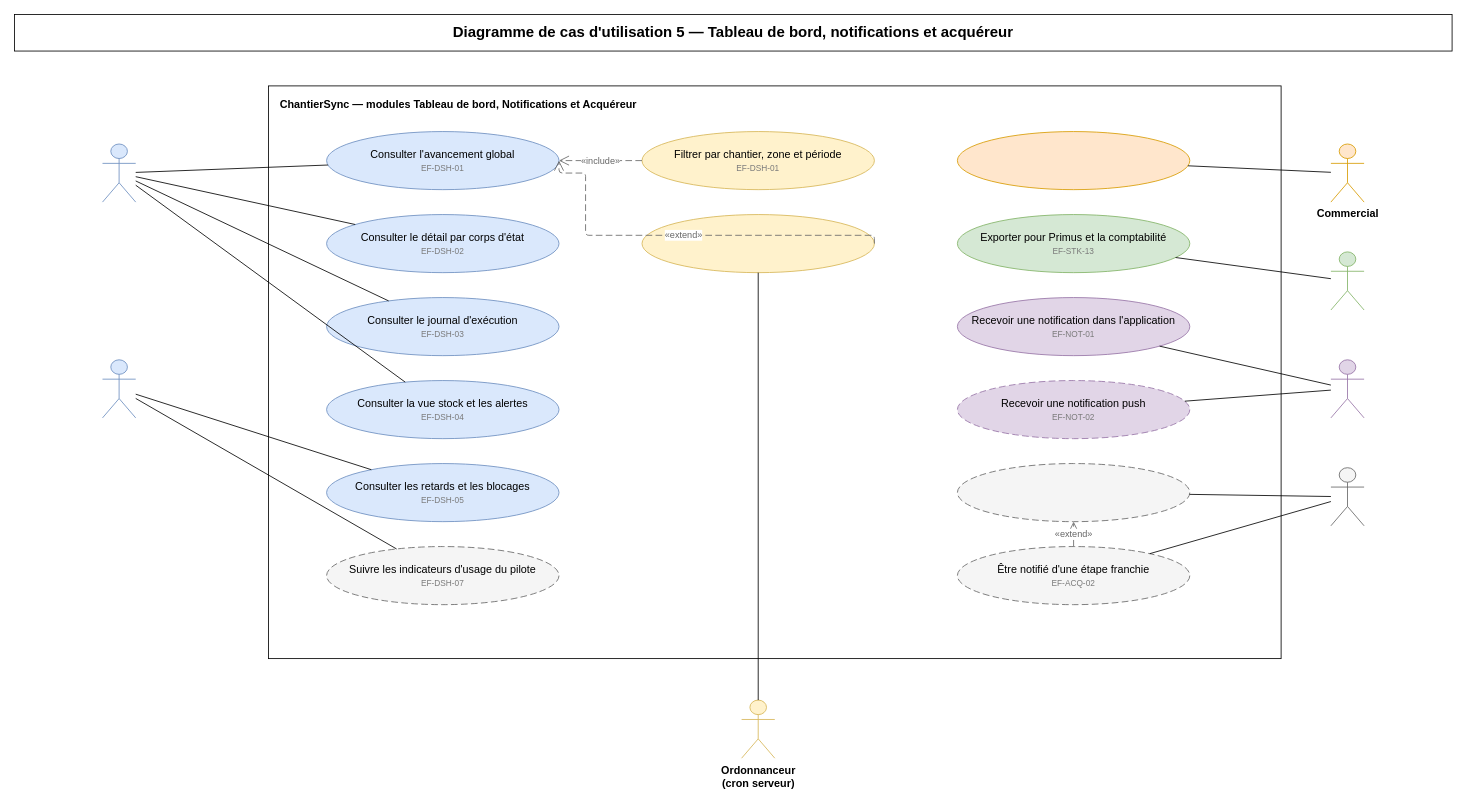
Image size: 1467x804. Some labels were removed from this diagram. Here are the shapes that lost their labels. From the top down, the box of each, then its label:
(102, 143, 136, 202): Direction
(957, 131, 1190, 190): Consulter l'avancement simplifié d'un logement EF-DSH-01
(641, 214, 874, 273): Éditer le rapport hebdomadaire EF-DSH-06
(1330, 251, 1364, 310): Administration et finances
(102, 359, 136, 418): Responsable technique
(1330, 359, 1364, 418): Utilisateur notifié
(957, 463, 1190, 522): Consulter l'avancement de son logement EF-ACQ-01
(1330, 467, 1364, 526): Acquéreur (phase 2)
